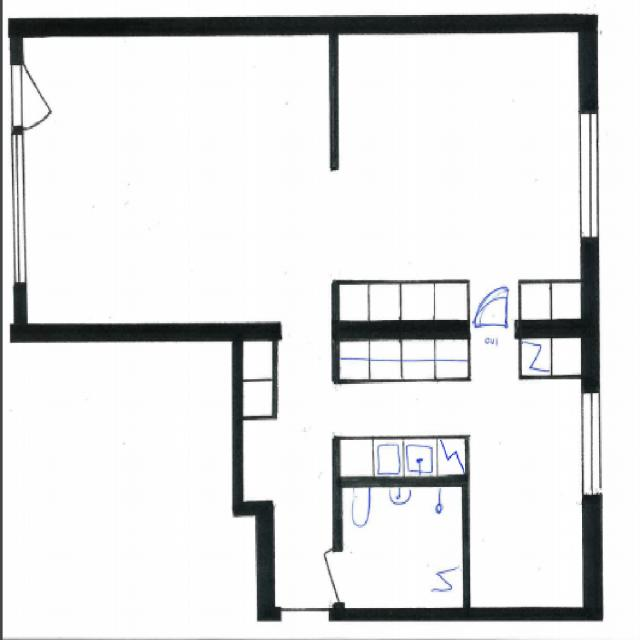door: (14, 64, 79, 130), (472, 272, 513, 342), (290, 551, 340, 603)
